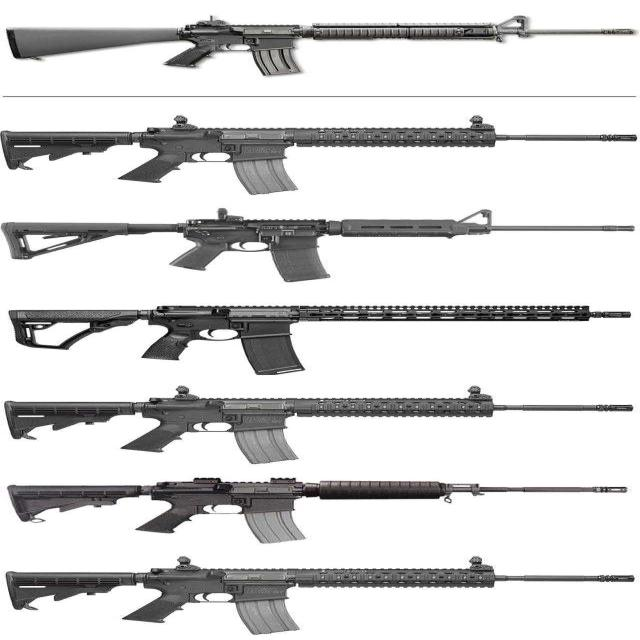heavyweapon: (1, 111, 640, 209), (1, 551, 640, 640), (1, 294, 640, 380), (1, 382, 640, 467), (1, 13, 636, 94), (1, 468, 640, 545), (1, 213, 639, 279)
